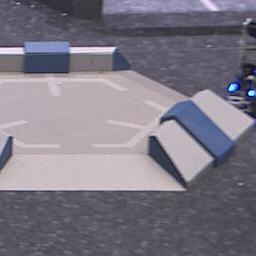Robot: (231, 17, 256, 112)
